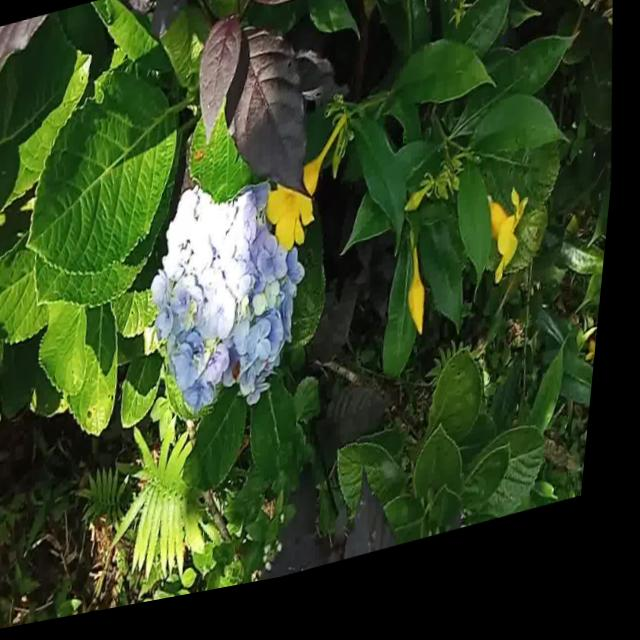Flower: (139, 184, 318, 436)
